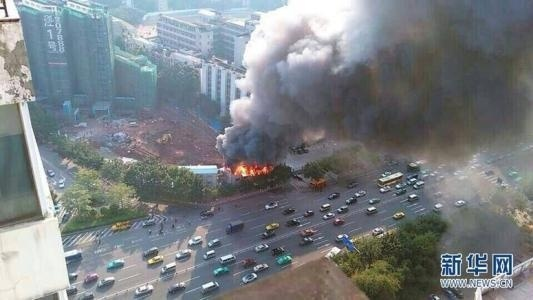fire: (230, 160, 269, 178)
